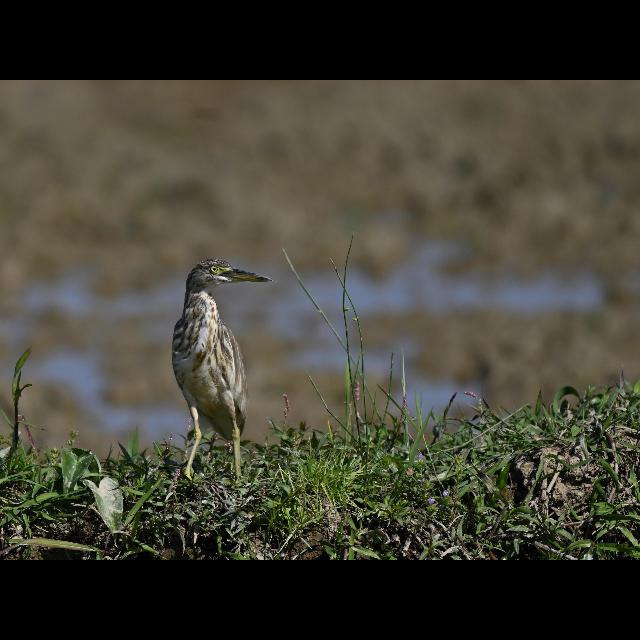heron: (170, 256, 276, 476)
